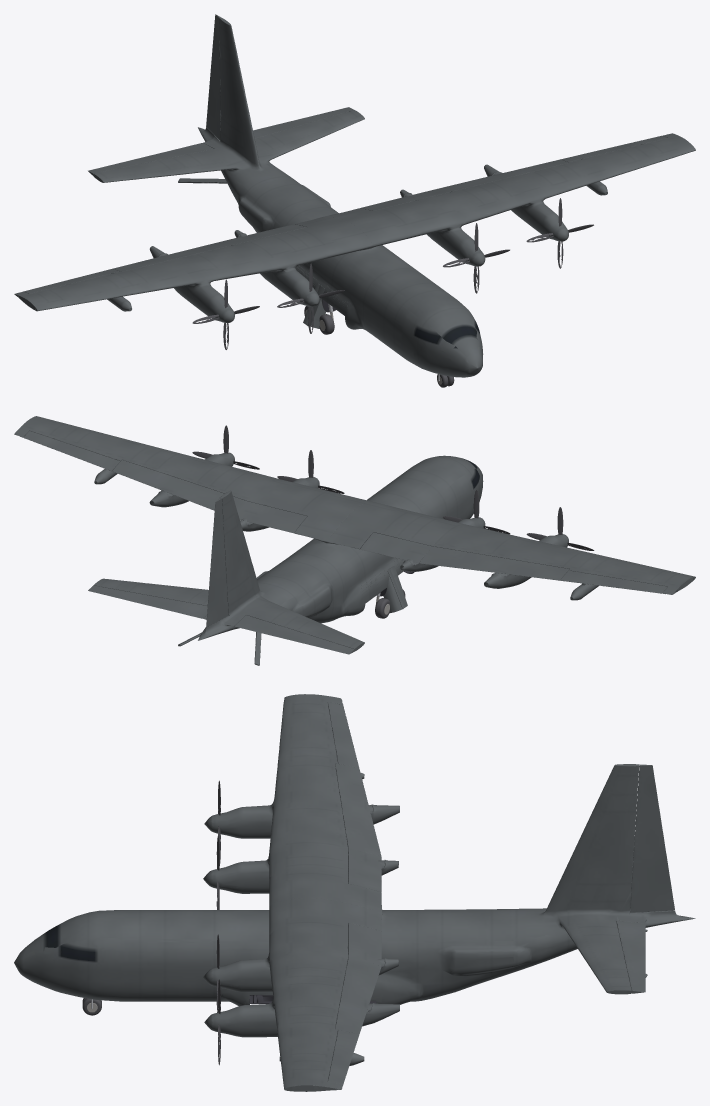
The picture shows the model from 3 angles, top to bottom: view 1: azimuth 30°, elevation 25°; view 2: azimuth 150°, elevation 25°; view 3: azimuth 270°, elevation 25°; orthographic projection. The views are drawn at different scales.
Visible parts, largest first — view 1: fsim:section:nose, fsim:section:centre, fsim:section:tail, fsim:section:left-wing, fsim:section:right-wing, fsim:flaps (×2), fsim:elevator (×2), fsim:rudder; view 2: fsim:section:centre, fsim:section:left-wing, fsim:section:right-wing, fsim:section:tail, fsim:flaps (×2), fsim:section:nose, fsim:elevator (×2), fsim:aileron (×2), fsim:rudder, Right Main Gear Front door; view 3: fsim:section:nose, fsim:section:centre, fsim:section:tail, fsim:section:right-wing, fsim:section:left-wing, fsim:flaps (×2), fsim:rudder, fsim:aileron (×2), fsim:elevator.
Part boxes in pixels (<box>): fsim:section:nose: <box>197,205,568,377</box>; fsim:section:centre: <box>107,164,607,315</box>; fsim:section:tail: <box>93,18,364,202</box>; fsim:section:left-wing: <box>369,133,695,240</box>; fsim:section:right-wing: <box>14,224,355,311</box>; fsim:flaps (×2): <box>112,159,568,271</box>; fsim:elevator (×2): <box>88,107,353,175</box>; fsim:rudder: <box>206,14,221,140</box>; fsim:section:centre: <box>94,455,598,623</box>; fsim:section:left-wing: <box>14,416,340,532</box>; fsim:section:right-wing: <box>360,506,695,594</box>; fsim:section:tail: <box>93,490,364,665</box>; fsim:flaps (×2): <box>112,460,569,580</box>; fsim:section:nose: <box>206,452,568,573</box>; fsim:elevator (×2): <box>88,585,354,654</box>; fsim:aileron (×2): <box>23,431,667,593</box>; fsim:rudder: <box>206,498,228,627</box>; Right Main Gear Front door: <box>383,565,407,612</box>; fsim:section:nose: <box>14,805,273,1037</box>; fsim:section:centre: <box>218,772,542,1066</box>; fsim:section:tail: <box>526,764,695,994</box>; fsim:section:right-wing: <box>267,694,384,894</box>; fsim:section:left-wing: <box>266,910,384,1091</box>; fsim:flaps (×2): <box>335,763,381,1034</box>; fsim:rudder: <box>630,764,674,912</box>; fsim:aileron (×2): <box>328,702,359,1084</box>; fsim:elevator: <box>616,920,645,993</box>.
Size of the model in its own units: 40.42 by 11.95 by 29.76.
6 materials, 1 textured.
